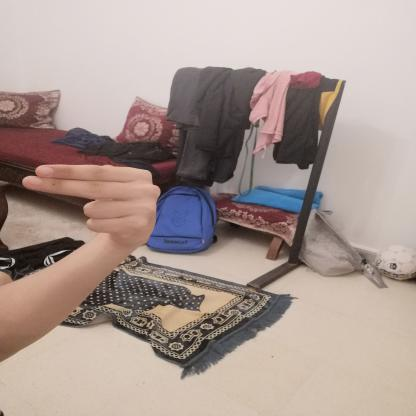AYN: (13, 155, 168, 255)
